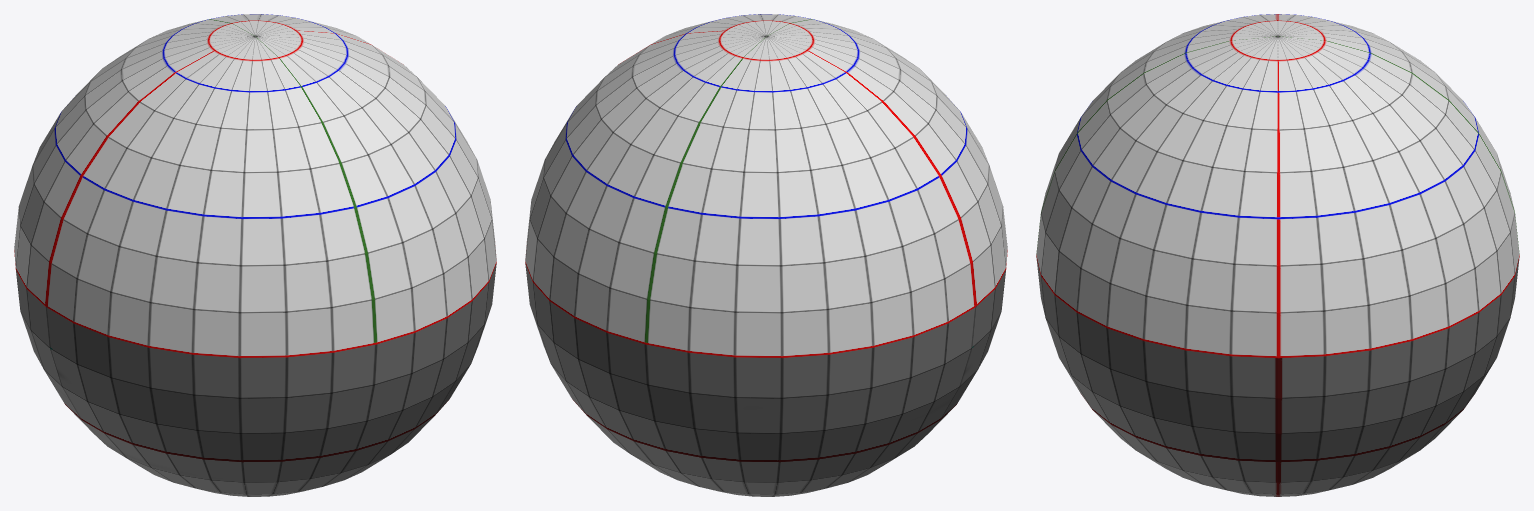
File: TrainingDOOM.fbx
3 views of the same model, side by side, from view 1: azimuth 30°, elevation 25°; view 2: azimuth 150°, elevation 25°; view 3: azimuth 270°, elevation 25° (orthographic).
Visible parts, largest first — view 1: 球; view 2: 球; view 3: 球.
Part boxes in pixels (box(x1,y1,x2,y2)): 球: box(14, 14, 496, 496); 球: box(525, 14, 1007, 496); 球: box(1036, 14, 1519, 496).
Bounding box in the file's own units: 1009 × 1009 × 1009.
2 materials, 1 textured.
